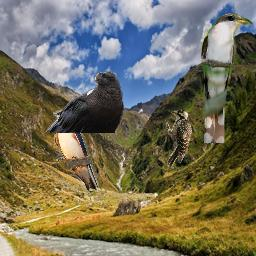Crow: (44, 70, 125, 133)
Cuckoo: (200, 12, 253, 143)
Swallow: (53, 110, 99, 191)
Woodpecker: (164, 108, 192, 171)
